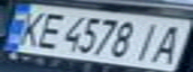4: (54, 12, 87, 54)
5: (75, 13, 103, 55)
7: (93, 16, 121, 57)
8: (109, 17, 142, 61)
A: (145, 21, 193, 65)
E: (27, 10, 69, 51)
I: (130, 19, 166, 63)
K: (6, 8, 51, 48)
